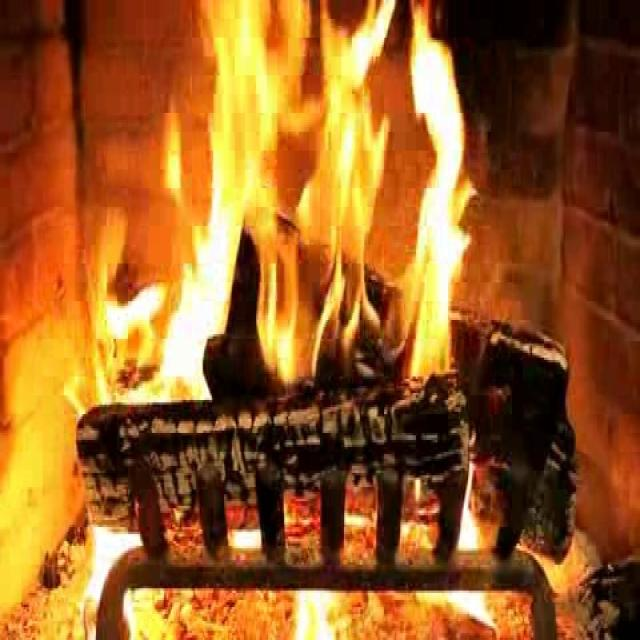fire: (160, 7, 480, 392)
